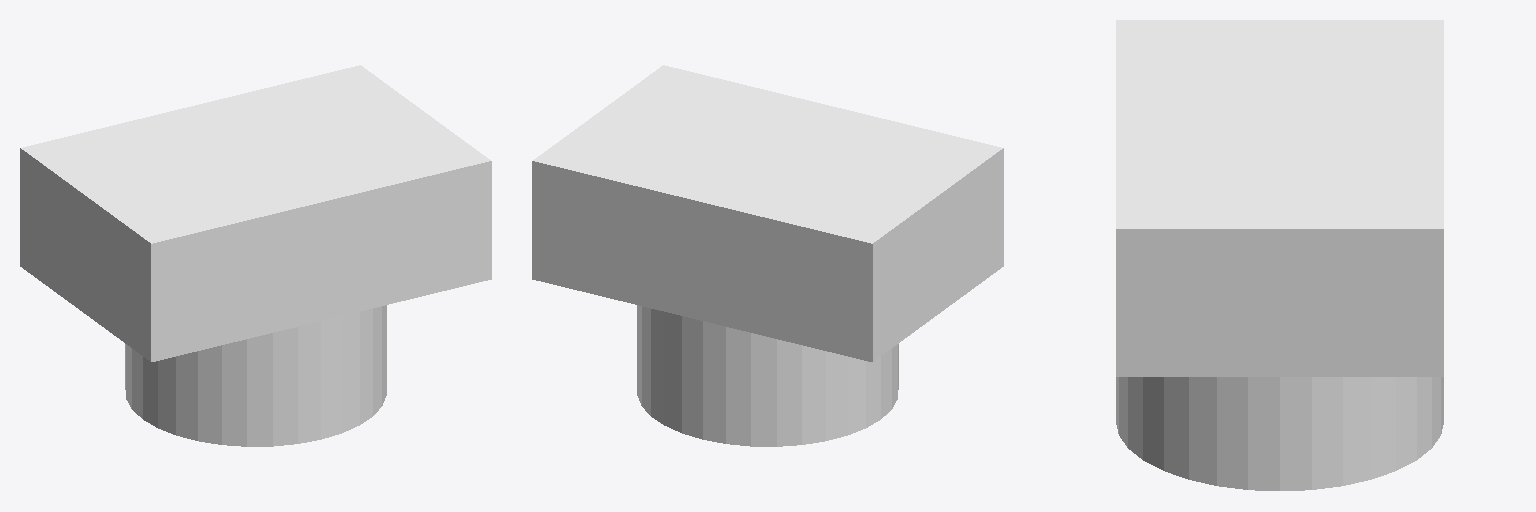
robot.urdf — gripper.SLDPRT:
<robot
  name="gripper.SLDPRT">
  <link
    name="gripper_base">
    <inertial>
      <origin
        xyz="2.3164E-19 8.88976163462408E-19 0.011563"
        rpy="0 0 0" />
      <mass
        value="0.0091416" />
      <inertia
        ixx="5.60915290578536E-07"
        ixy="-3.0881409535313E-23"
        ixz="-2.26976902761232E-23"
        iyy="8.10915290578536E-07"
        iyz="-1.05731144748763E-23"
        izz="8.0707963267949E-07" />
    </inertial>
    <visual>
      <origin
        xyz="0 0 0"
        rpy="1.5707963267949 0 0" />
      <geometry>
        <mesh
          filename="package://kuca/meshes/gripper_base.STL" />
      </geometry>
      <material
        name="">
        <color
          rgba="1 1 1 1" />
      </material>
    </visual>
    <collision>
      <origin
        xyz="0 0 0"
        rpy="1.5707963267949 0 0" />
      <geometry>
        <mesh
          filename="package://kuca/meshes/gripper_base.STL" />
      </geometry>
    </collision>
  </link>
</robot>

--- Render facts (derived) ---
3 views of the same robot in one strip: view 1: azimuth 30°, elevation 25°; view 2: azimuth 150°, elevation 25°; view 3: azimuth 270°, elevation 25° (orthographic).
Robot: gripper.SLDPRT — 1 links, 0 joints (none); root link gripper_base; default pose: all joints at 0.
Visible links, largest first — view 1: gripper_base; view 2: gripper_base; view 3: gripper_base.
Boxes of the visible links, bbox=[...] form: gripper_base: bbox=[20, 65, 491, 446]; gripper_base: bbox=[532, 65, 1003, 446]; gripper_base: bbox=[1116, 20, 1443, 490].
Size in the robot's own frame: 0.03 by 0.02 by 0.02 metres.
1 mesh visuals loaded from 1 distinct referenced files (1 binary STL).
